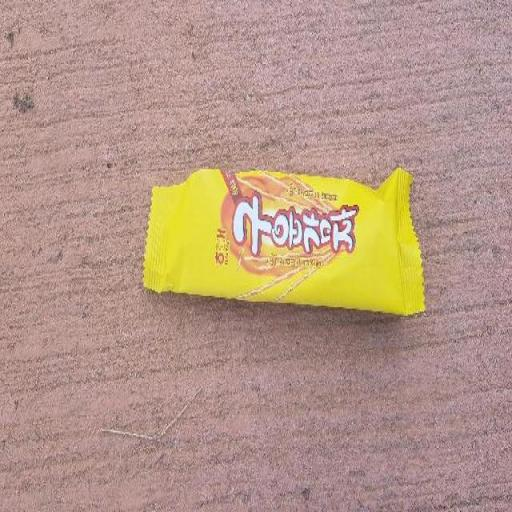plastic-bag: (141, 165, 427, 320)
